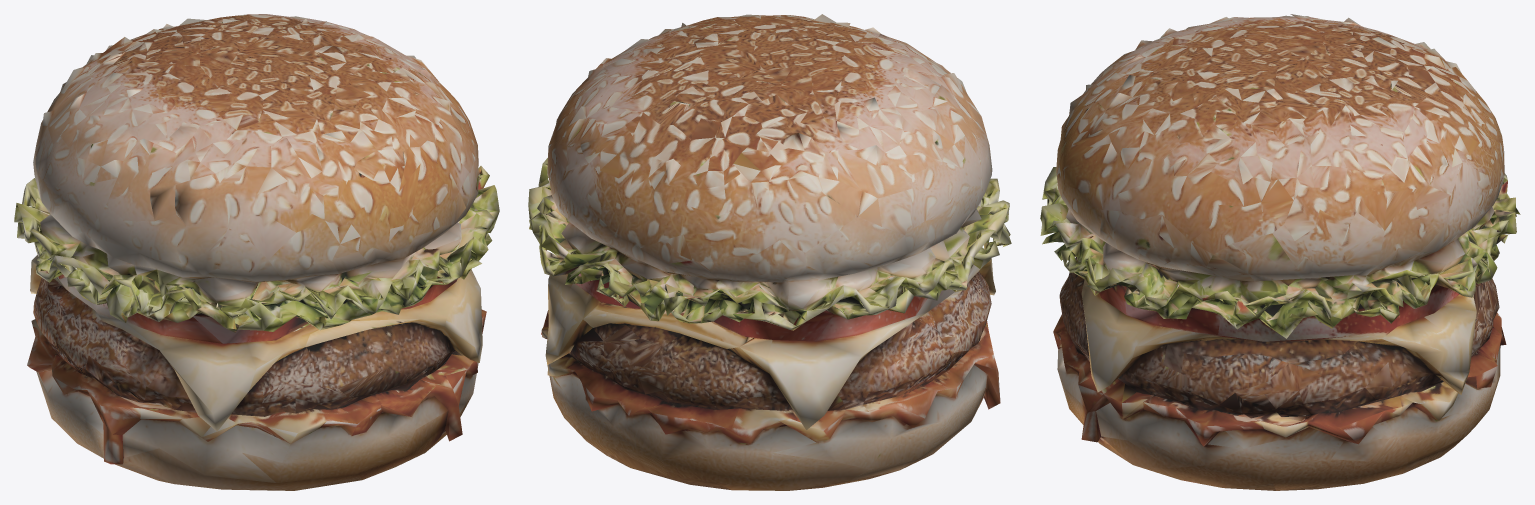
Rendered from Prop_Burger.fbx.
3 renders of one model, left to right at view 1: azimuth 30°, elevation 25°; view 2: azimuth 150°, elevation 25°; view 3: azimuth 270°, elevation 25°, orthographic.
Parts seen in each view (by area): view 1: Prop_Burger; view 2: Prop_Burger; view 3: Prop_Burger.
Boxes of the visible parts, x1=… form: Prop_Burger: x1=14, y1=14, x2=499, y2=490; Prop_Burger: x1=528, y1=14, x2=1011, y2=490; Prop_Burger: x1=1040, y1=14, x2=1520, y2=490.
Size of the model in its own units: 0.1198 by 0.0974 by 0.12.
